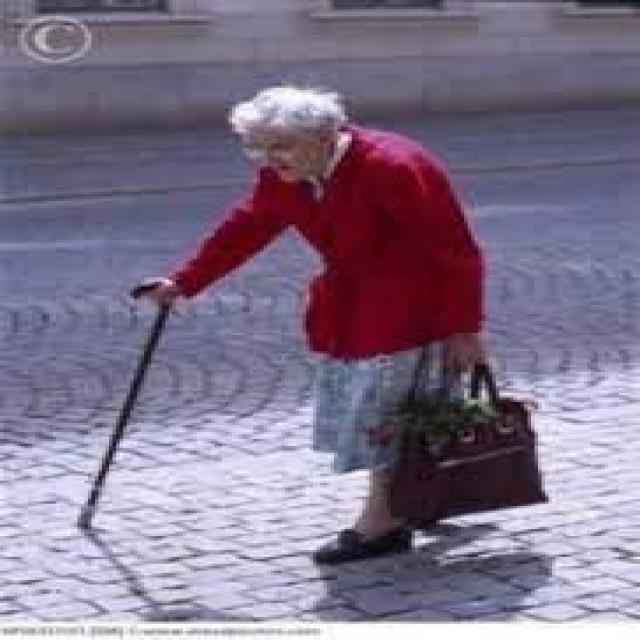idoso em pe: (144, 79, 506, 552)
